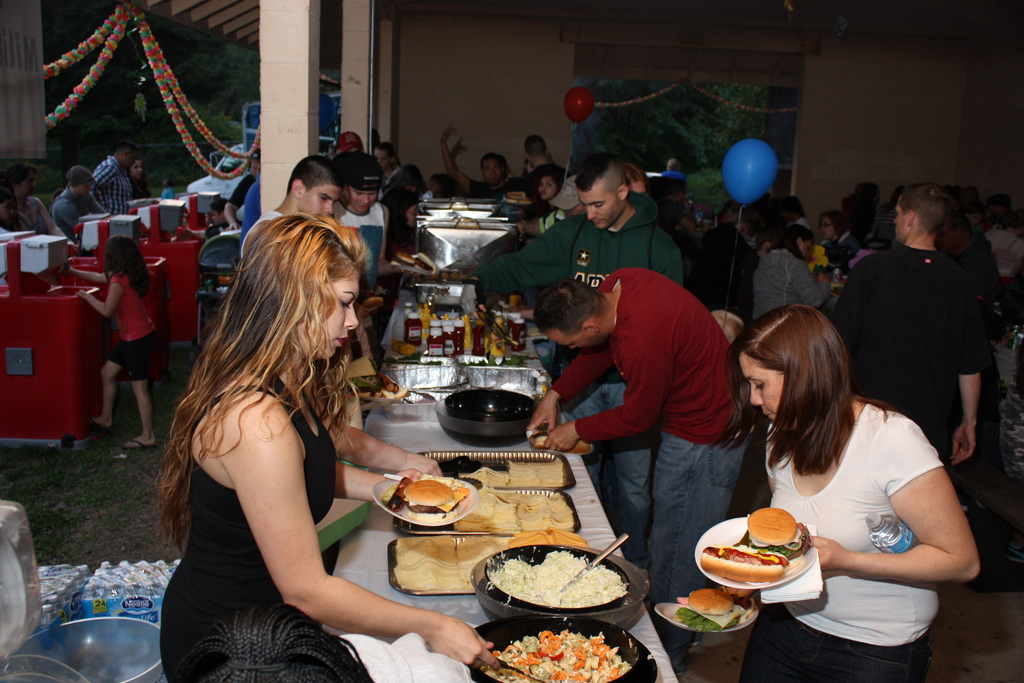hamburger: (732, 508, 810, 566), (404, 481, 467, 519)
